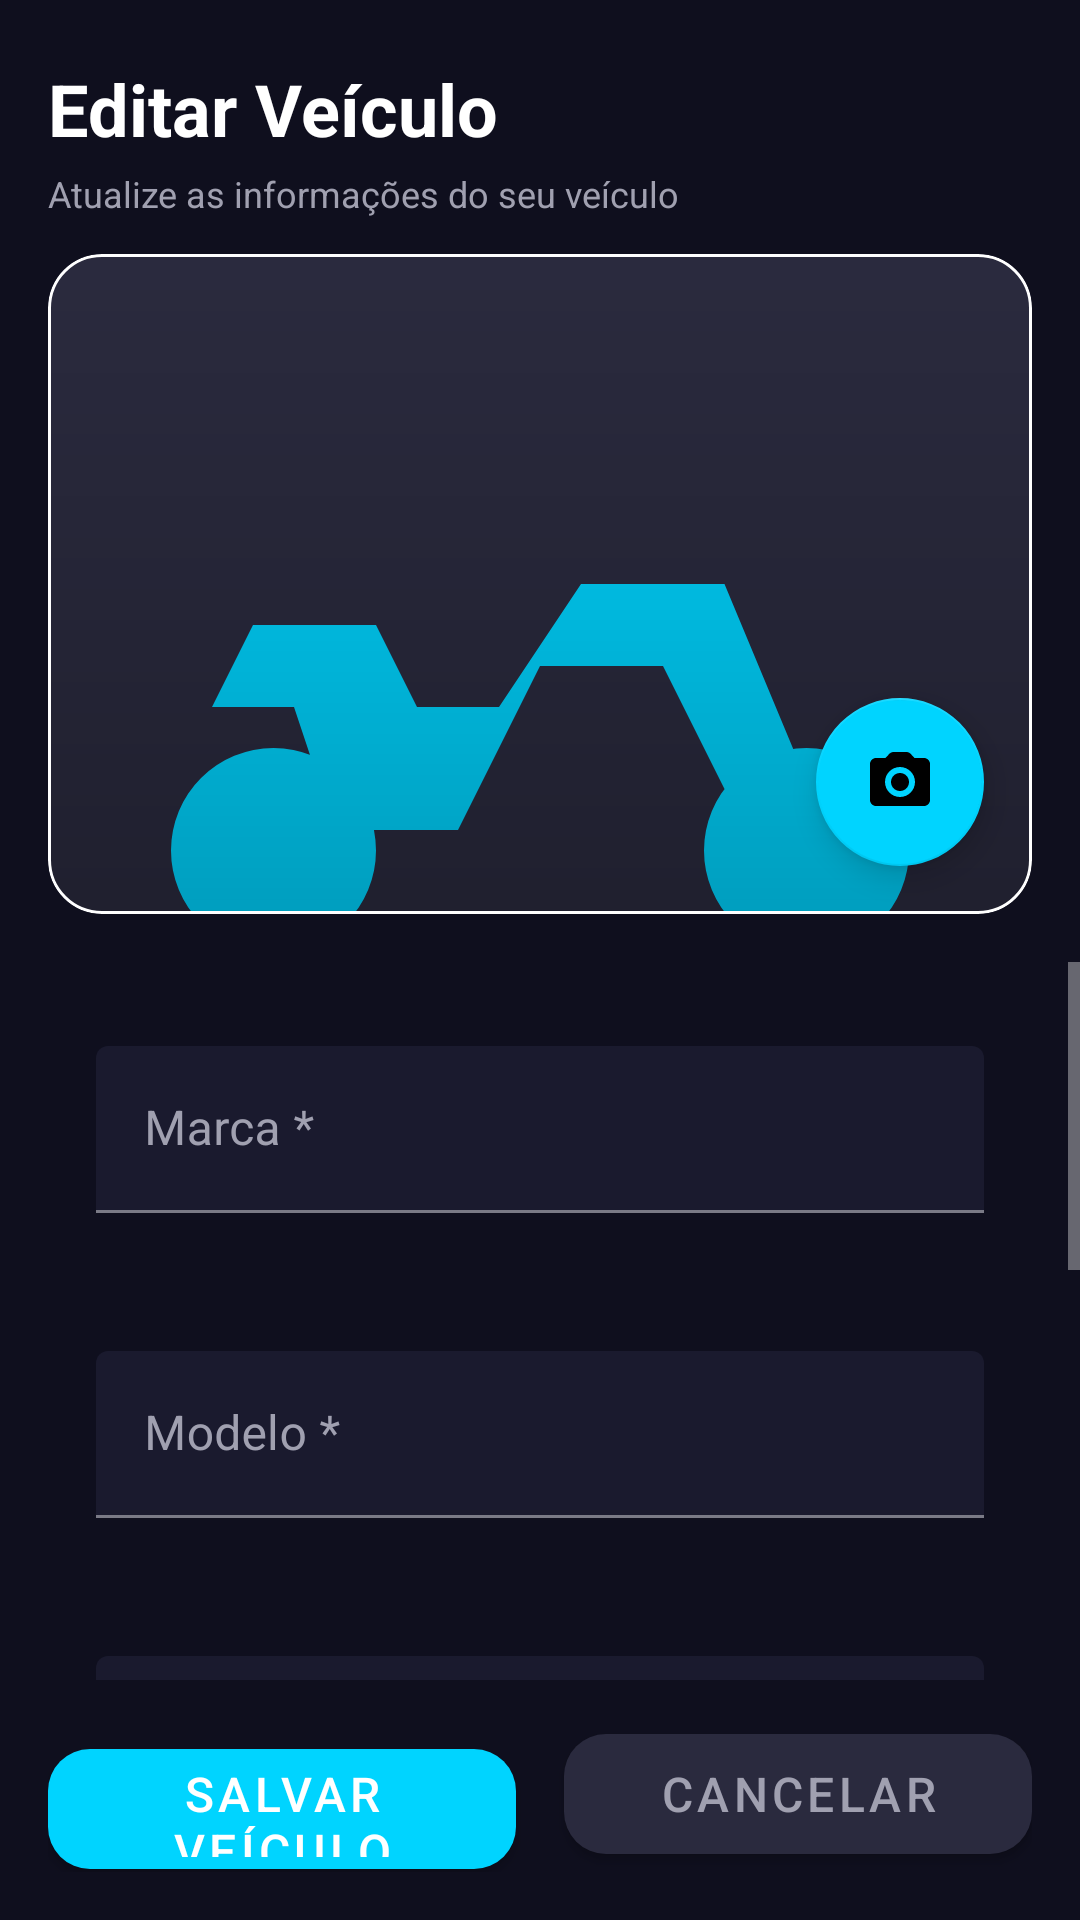

Icons on this 1080px x 1920px Android screen, each with its box as {"left": x1, "top": y1, "right": x2, "bottom": y2}:
camera modern: {"left": 816, "top": 698, "right": 984, "bottom": 866}
